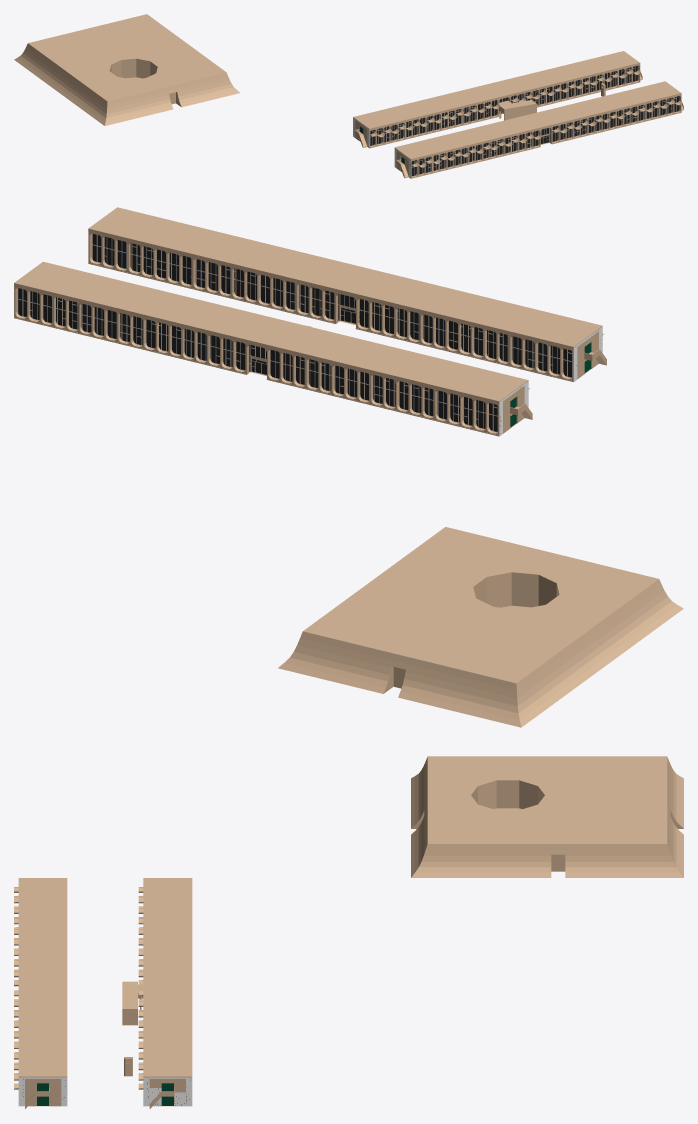
The model's file is td to village.gltf.
The picture shows the model from 3 angles, top to bottom: view 1: azimuth 30°, elevation 25°; view 2: azimuth 150°, elevation 25°; view 3: azimuth 270°, elevation 25°; orthographic projection. The views are drawn at different scales.
Parts seen in each view (by area): view 1: village, 100-200, 300-400; view 2: village, 100-200, 300-400; view 3: village, 100-200, 300-400.
Boxes of the visible parts, <box> form: village: <box>14,14,239,125</box>; 100-200: <box>353,51,642,148</box>; 300-400: <box>394,81,683,178</box>; village: <box>278,527,683,727</box>; 100-200: <box>14,261,532,436</box>; 300-400: <box>88,207,606,381</box>; village: <box>411,756,683,877</box>; 100-200: <box>122,878,192,1108</box>; 300-400: <box>14,878,67,1108</box>.
Bounding box in the file's own units: 435 × 18.11 × 372.
Materials: 1 (1 with a texture image).
